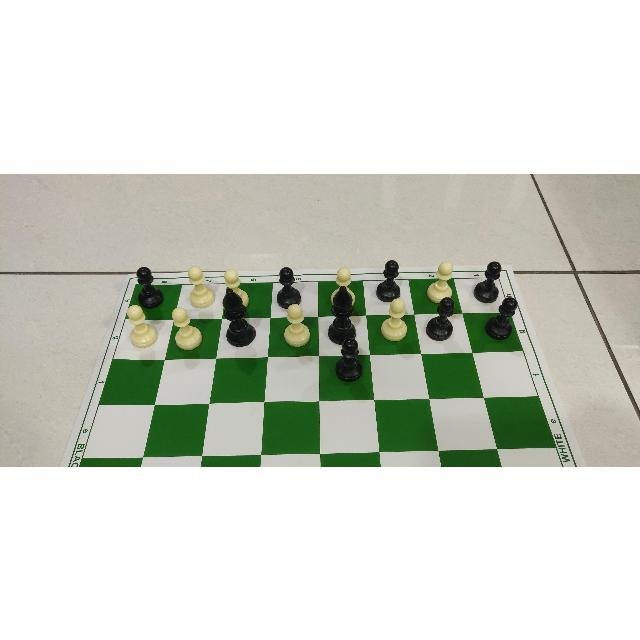black-bishop: (217, 287, 260, 350), (324, 283, 368, 344)
black-pawn: (269, 264, 312, 310), (420, 298, 462, 340), (479, 296, 519, 340), (328, 338, 368, 382), (125, 263, 164, 306), (472, 259, 510, 303), (371, 259, 408, 301)
white-pawn: (271, 301, 317, 348), (420, 260, 464, 302), (167, 305, 207, 350), (374, 297, 413, 343), (123, 303, 159, 351), (320, 263, 359, 306), (178, 263, 216, 306), (221, 265, 257, 307)
